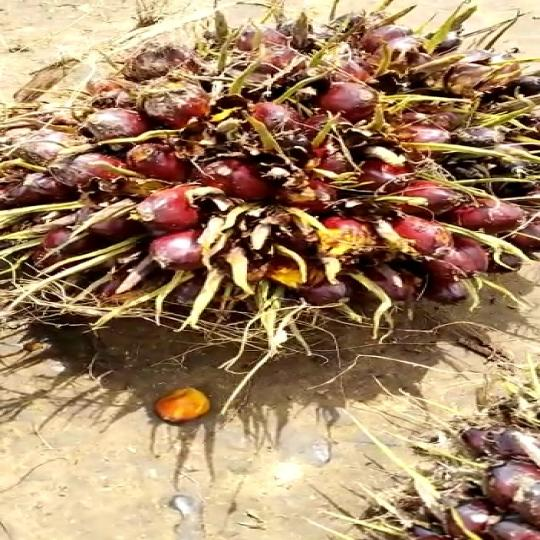masak: (0, 0, 540, 359)
